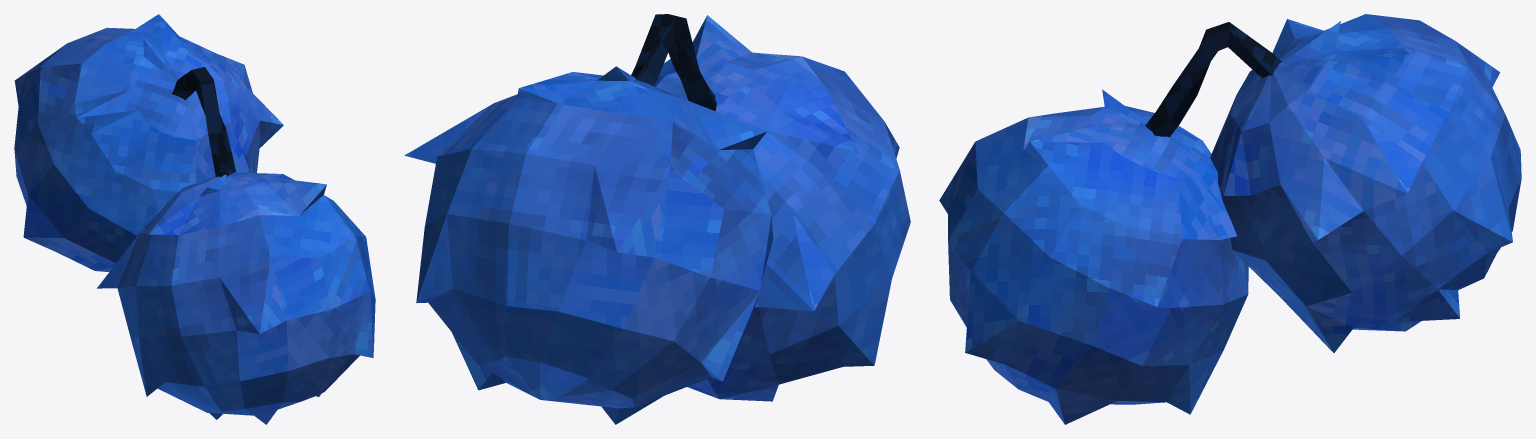
The model's file is Blueballs.fbx.
The picture shows the model from 3 angles, left to right: view 1: azimuth 30°, elevation 25°; view 2: azimuth 150°, elevation 25°; view 3: azimuth 270°, elevation 25°; orthographic projection. The views are drawn at different scales.
Visible parts, largest first — view 1: BlueBalls; view 2: BlueBalls; view 3: BlueBalls.
Boxes of the visible parts, bbox=[...] form: BlueBalls: bbox=[14, 14, 375, 424]; BlueBalls: bbox=[404, 14, 910, 424]; BlueBalls: bbox=[939, 14, 1521, 424].
Size of the model in its own units: 12.11 by 14.77 by 20.3.
